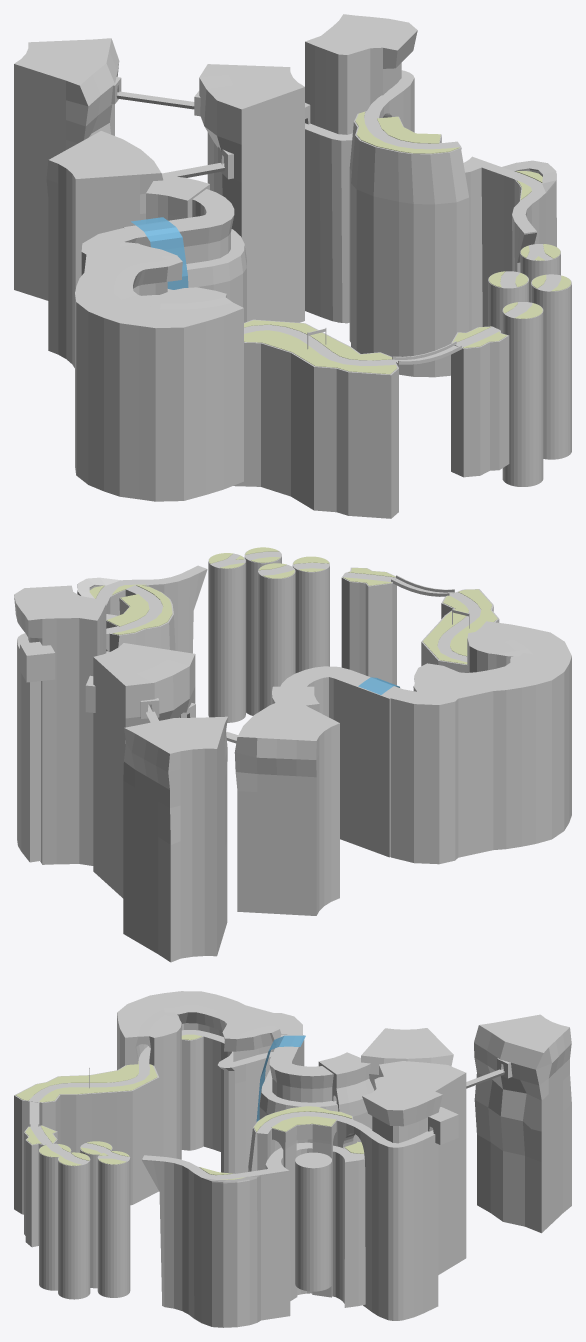
File: LD 2 - Canyon track A_B v01.fbx
3 views of the same model, one above another, from view 1: azimuth 30°, elevation 25°; view 2: azimuth 150°, elevation 25°; view 3: azimuth 270°, elevation 25° (orthographic). The views are drawn at different scales.
Visible parts, largest first — view 1: Cube.010, Cube.017, Cube.007, Cube, Cube.019, Cube.004, Cube.003, Cube.021, Cube.006, Cube.008, Cylinder, Cylinder.001 (+9 smaller); view 2: Cube.010, Cube.004, Cube.003, Cube.021, Cube, Cube.006, Cube.017, Cylinder.002, Cube.008, Cylinder.013, Cylinder, Cube.019 (+7 smaller); view 3: Cube.019, Cube.010, Cube.004, Cube.017, Cube.007, Cube.006, Cube, Cylinder.009, Cylinder.002, Cylinder.001, Cube.021, Cube.003 (+10 smaller).
Boxes of the visible parts, bbox=[...] form: Cube.010: bbox=[75, 228, 243, 501]; Cube.017: bbox=[349, 70, 468, 377]; Cube.007: bbox=[233, 319, 398, 518]; Cube: bbox=[199, 64, 304, 322]; Cube.019: bbox=[305, 123, 556, 331]; Cube.004: bbox=[14, 38, 119, 300]; Cube.003: bbox=[46, 131, 163, 367]; Cube.021: bbox=[305, 14, 417, 323]; Cube.006: bbox=[123, 175, 246, 322]; Cube.008: bbox=[451, 326, 509, 477]; Cylinder: bbox=[502, 302, 543, 486]; Cylinder.001: bbox=[531, 274, 571, 459]; Cube.010: bbox=[390, 621, 571, 864]; Cube.004: bbox=[123, 716, 227, 962]; Cube.003: bbox=[234, 697, 339, 915]; Cube.021: bbox=[14, 585, 106, 865]; Cube: bbox=[93, 643, 195, 898]; Cube.006: bbox=[272, 666, 403, 857]; Cube.017: bbox=[17, 585, 175, 862]; Cylinder.002: bbox=[208, 553, 245, 722]; Cube.008: bbox=[341, 567, 396, 685]; Cylinder.013: bbox=[258, 564, 295, 712]; Cylinder: bbox=[292, 559, 329, 672]; Cube.019: bbox=[77, 565, 207, 653]; Cube.019: bbox=[142, 1142, 365, 1327]; Cube.010: bbox=[117, 991, 302, 1173]; Cube.004: bbox=[474, 1014, 571, 1233]; Cube.017: bbox=[248, 1106, 438, 1320]; Cube.007: bbox=[14, 1064, 159, 1214]; Cube.006: bbox=[259, 1034, 374, 1141]; Cube: bbox=[379, 1061, 466, 1274]; Cylinder.009: bbox=[295, 1152, 331, 1291]; Cylinder.002: bbox=[97, 1151, 130, 1297]; Cylinder.001: bbox=[58, 1152, 90, 1299]; Cube.021: bbox=[362, 1073, 442, 1143]; Cube.003: bbox=[361, 1028, 453, 1089].
Size of what is drawn, in the model's own units: 9331 by 4866 by 11439.
